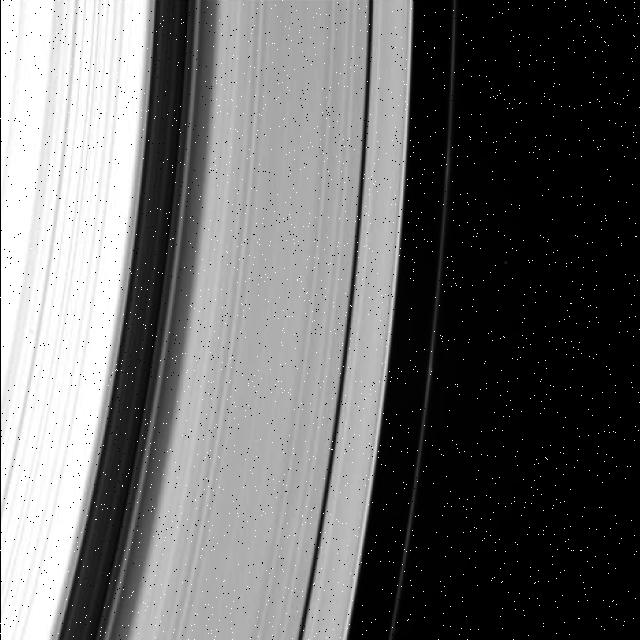Saturn: (0, 0, 458, 640)
